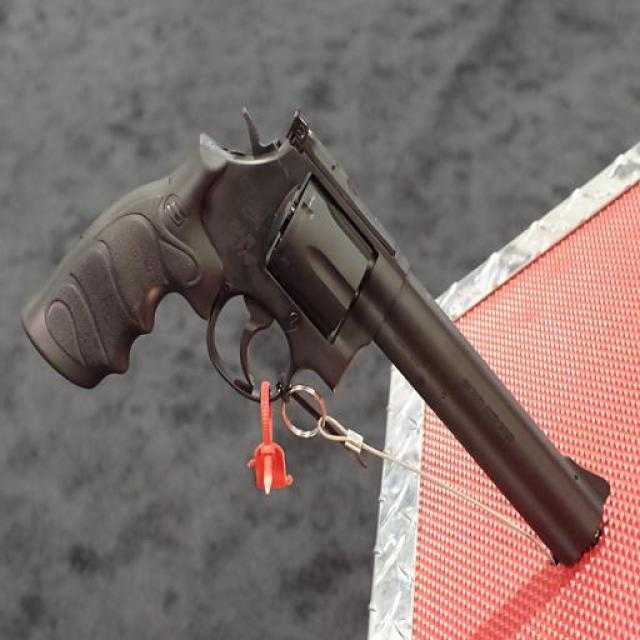pistol: (21, 101, 601, 575)
